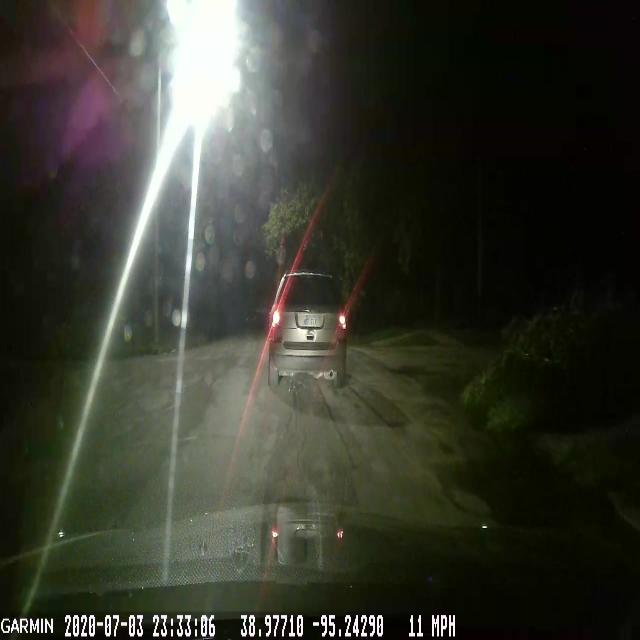Pothole: (431, 434, 605, 525)
